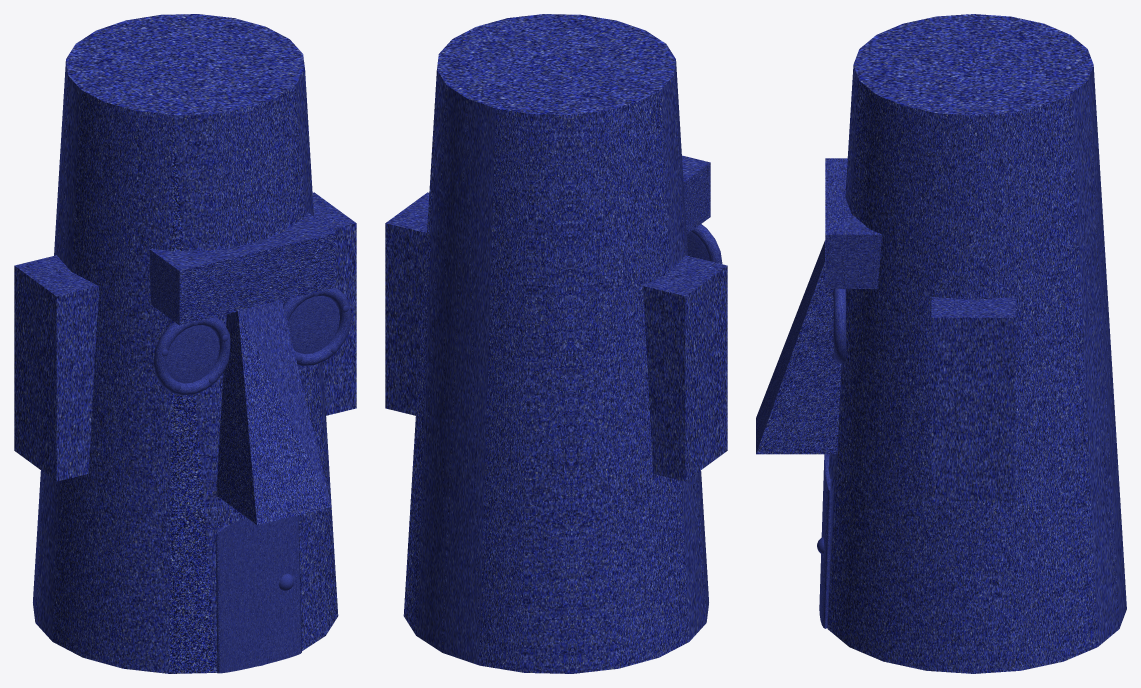
Rendered from casa2.obj.
3 renders of one model, left to right at view 1: azimuth 30°, elevation 25°; view 2: azimuth 150°, elevation 25°; view 3: azimuth 270°, elevation 25°, orthographic.
Parts seen in each view (by area): view 1: pCylinder1, pCube4, pCube2, pCube3, pCylinder3, pCube1, pSphere1, pasted__pSphere1 group, pTorus1, pasted__pTorus1 group1; view 2: pCylinder1, pCube2, pCube1, pCube3, pTorus1; view 3: pCylinder1, pCube1, pCube4, pCube3, pCylinder3, pasted__pTorus1 group1.
Boxes of the visible parts, x1,y1,x2,y2 form: pCylinder1: [33, 14, 338, 673]; pCube4: [216, 300, 331, 524]; pCube2: [14, 255, 98, 481]; pCube3: [149, 212, 335, 325]; pCylinder3: [215, 515, 301, 673]; pCube1: [312, 192, 356, 415]; pSphere1: [166, 325, 219, 383]; pasted__pSphere1 group: [288, 296, 339, 353]; pTorus1: [153, 317, 230, 395]; pasted__pTorus1 group1: [283, 287, 351, 365]; pCylinder1: [403, 14, 708, 673]; pCube2: [643, 255, 727, 481]; pCube1: [385, 192, 429, 415]; pCube3: [682, 155, 710, 234]; pTorus1: [691, 224, 722, 263]; pCylinder1: [827, 14, 1126, 673]; pCube1: [931, 297, 1015, 502]; pCube4: [756, 240, 841, 454]; pCube3: [825, 158, 882, 288]; pCylinder3: [819, 454, 834, 628]; pasted__pTorus1 group1: [833, 289, 846, 363].
Bounding box in the file's own units: 2.88 × 5 × 3.09.
